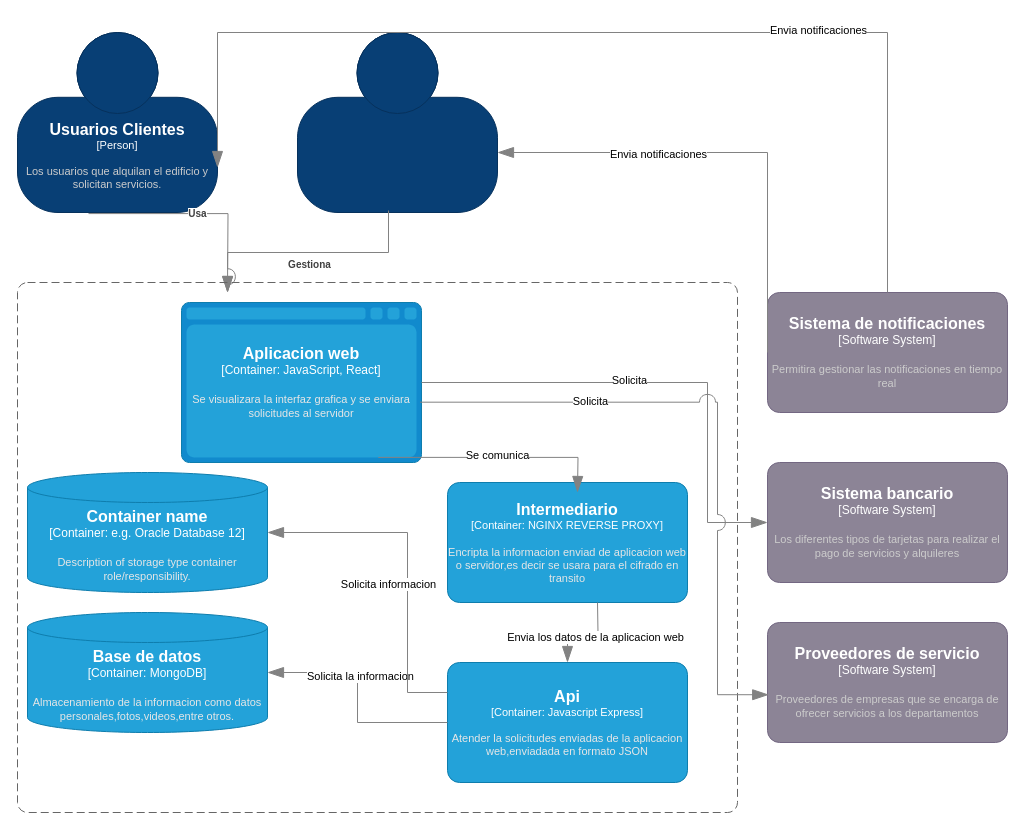
Image size: 1025x830. Some labels were removed from this diagram. Here are the shapes that lost their labels. From the top down, the box of each, then its label:
(296, 32, 498, 212): Usuarios Administradores [Person] Los usuarios que gestiona el edificio
(16, 282, 738, 812): Sistema de HomeSync [Container]
